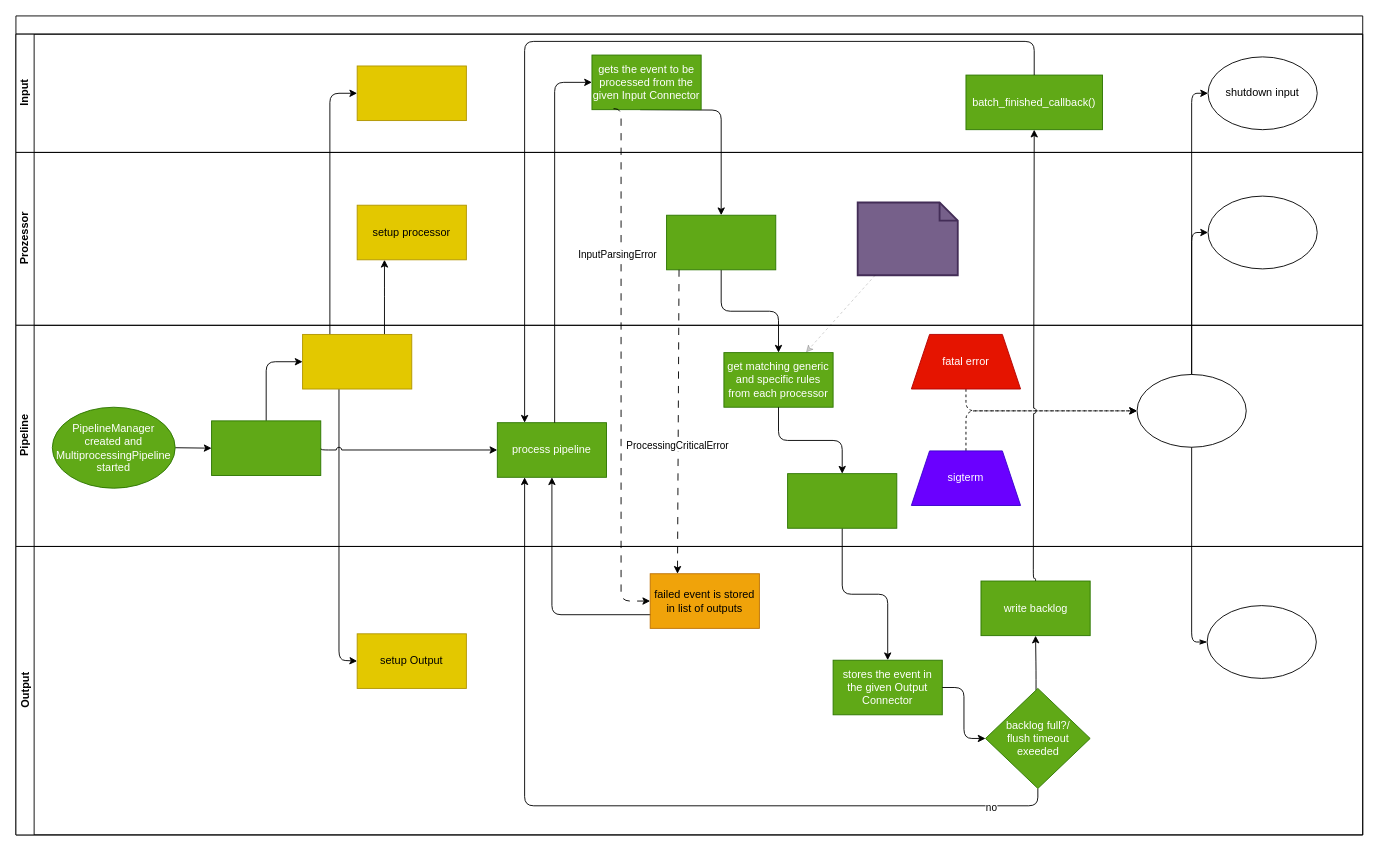
Image size: 1379x851. Some labels were removed from this diagram. Each missing label, with the box of its shape:
applies the rules to the given event to process it: (787, 473, 897, 528)
processes event through different processors in pipeline: (666, 214, 776, 270)
setup: (302, 334, 412, 389)
setup input: (356, 65, 466, 121)
shutdown output: (1206, 605, 1316, 678)
shutdown processor: (1207, 195, 1317, 269)
shutdown() terminates the pipeline: (1136, 374, 1246, 447)
Start Pipeline with run() Method: (211, 420, 321, 475)
use one ruletree with all rules?: (856, 201, 958, 276)
